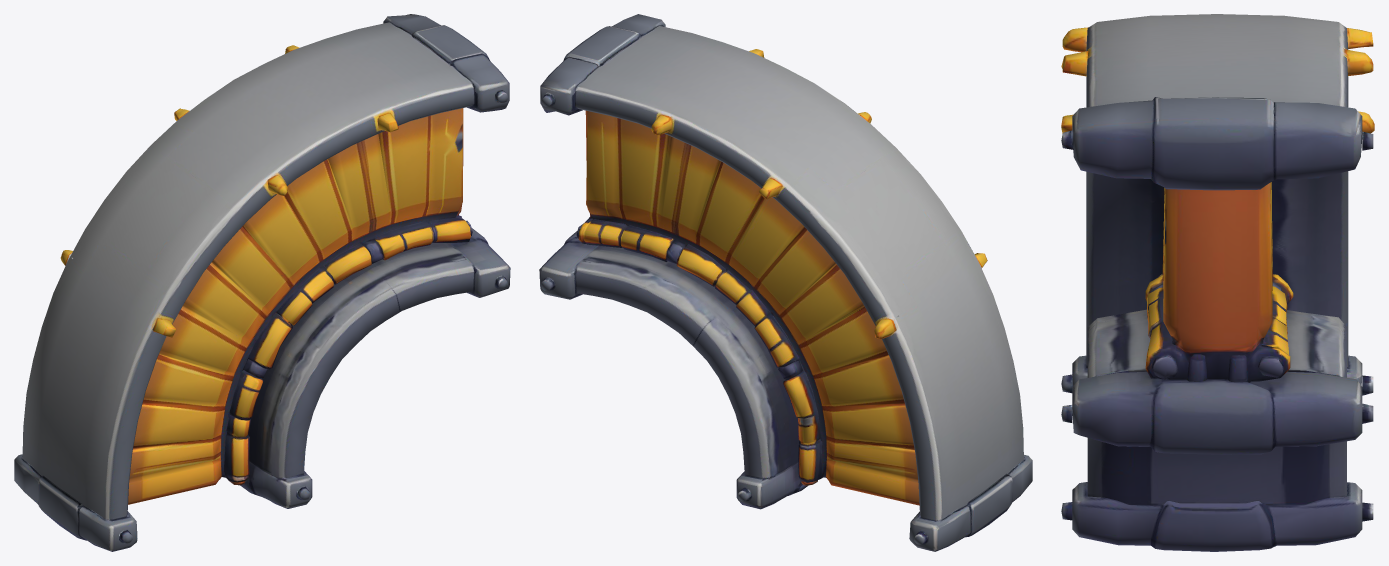
The model's file is selected.glb.
3 renders of one model, left to right at view 1: azimuth 30°, elevation 25°; view 2: azimuth 150°, elevation 25°; view 3: azimuth 270°, elevation 25°, orthographic. The views are drawn at different scales.
Parts seen in each view (by area): view 1: tripo_node_7526f468-2ceb-4654-9291-620f647e639a; view 2: tripo_node_7526f468-2ceb-4654-9291-620f647e639a; view 3: tripo_node_7526f468-2ceb-4654-9291-620f647e639a.
Part boxes in pixels (x1=…): tripo_node_7526f468-2ceb-4654-9291-620f647e639a: x1=14, y1=14, x2=510, y2=551; tripo_node_7526f468-2ceb-4654-9291-620f647e639a: x1=539, y1=14, x2=1032, y2=551; tripo_node_7526f468-2ceb-4654-9291-620f647e639a: x1=1061, y1=14, x2=1374, y2=551.
Bounding box in the file's own units: 0.998 × 0.9004 × 0.4434.
1 material, 1 textured.
